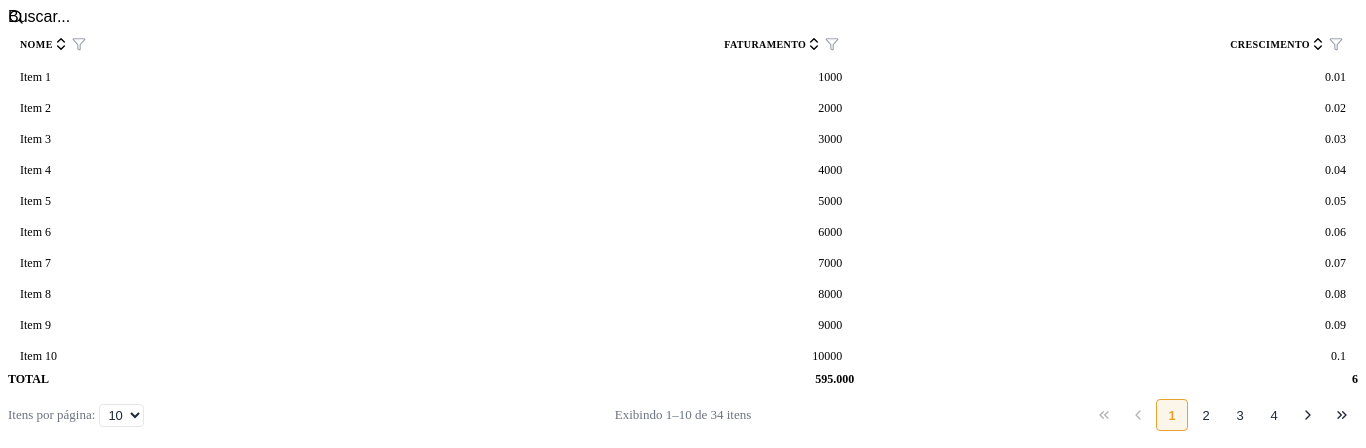
DataTable › paginação › deve ir para página específica via goToPage
Click the button with class "data-table__page-btn" showing "2".
click(1206, 415)  # box x1=1190 y1=399 x2=1222 y2=431
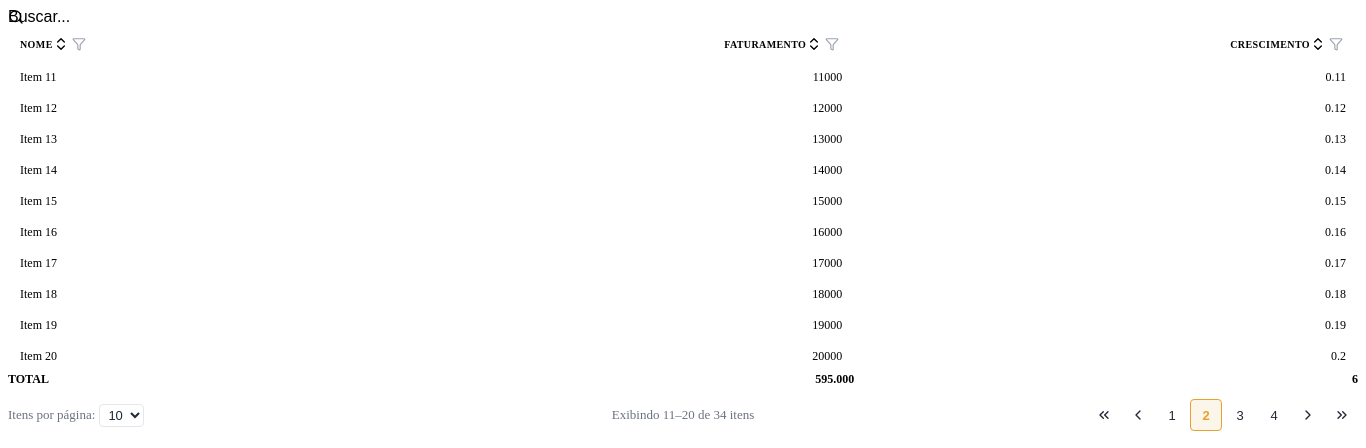
Check: the text "Item 11" is shown, box x1=20 y1=70 x2=56 y2=84
